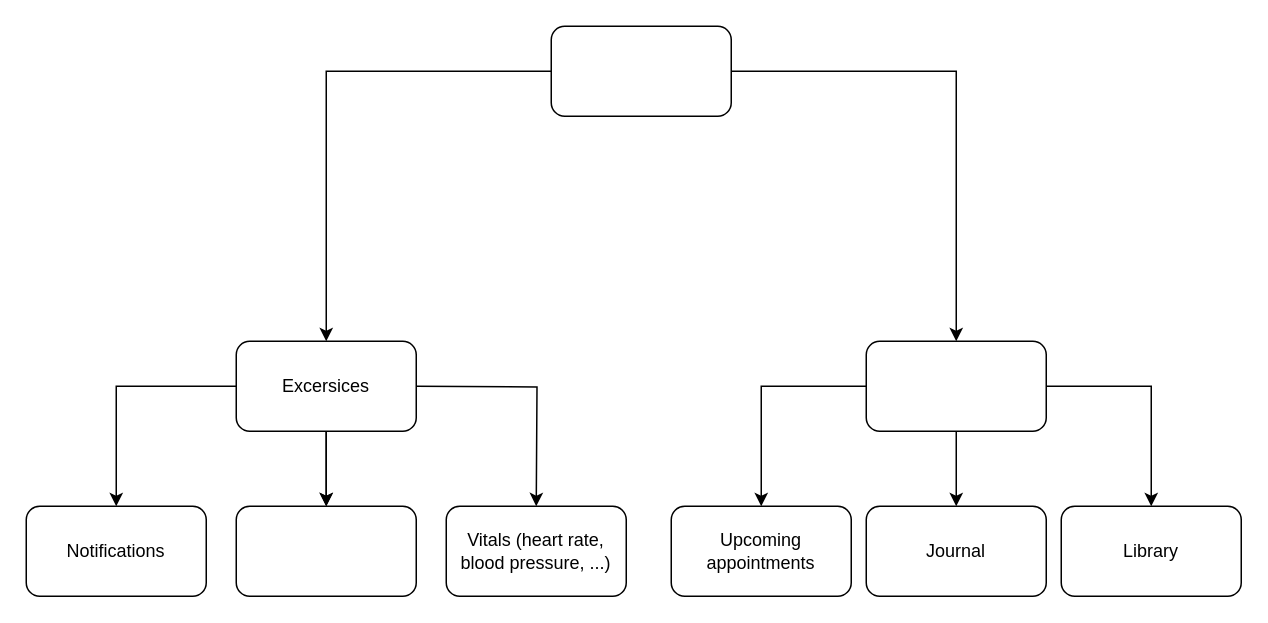
The diagram is 1268 pixels wide and 623 high, and some of its shapes have lost their labels. The centre of each missing label's shape, as x and y in pixels:
"Activities" goes at point 325,550.
"Mood" goes at point 955,385.
"Start" goes at point 640,70.
